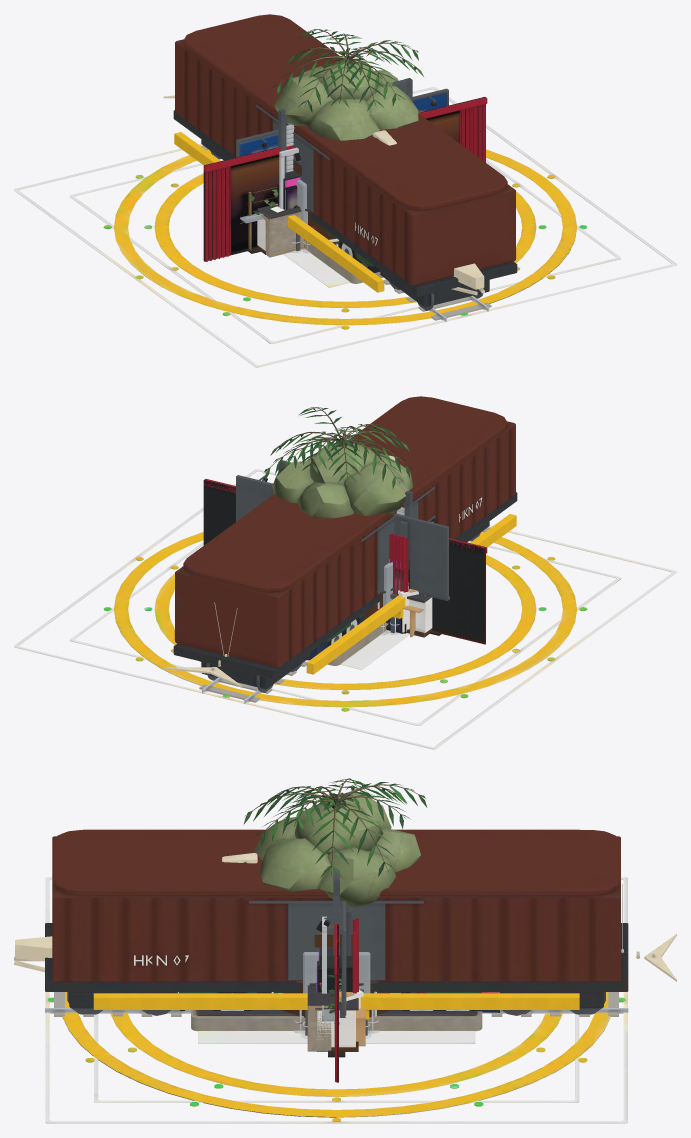
Rendered from props.glb.
3 views of the same model, one above another, from view 1: azimuth 30°, elevation 25°; view 2: azimuth 150°, elevation 25°; view 3: azimuth 270°, elevation 25° (orthographic). The views are drawn at different scales.
Visible parts, largest first — view 1: kovnica_rail_wagon_body, helipad_body, centar_screen_body, vila_olive_body, helipad_mark_body, palm_body, kovnica_gantry_body, centar_billboard_body, ticket_desk_body, kovnica_truck_gate_body, dino_body, kovnica_rails_body (+2 smaller); view 2: kovnica_rail_wagon_body, helipad_body, vila_olive_body, helipad_mark_body, centar_screen_body, centar_billboard_body, palm_body, kovnica_gantry_body, stage_set_body, teller_counter_body, kovnica_rails_body, whale_skeleton_body (+1 smaller); view 3: kovnica_rail_wagon_body, helipad_body, vila_olive_body, kovnica_gantry_body, helipad_mark_body, dino_body, palm_body, ticket_desk_body, whale_skeleton_body, kovnica_rails_body, teller_counter_body, centar_billboard_body (+5 smaller).
Boxes of the visible parts, x1=… form: kovnica_rail_wagon_body: x1=173, y1=14, x2=517, y2=310; helipad_body: x1=14, y1=87, x2=676, y2=367; centar_screen_body: x1=203, y1=97, x2=487, y2=261; vila_olive_body: x1=274, y1=61, x2=418, y2=140; helipad_mark_body: x1=69, y1=159, x2=621, y2=343; palm_body: x1=272, y1=29, x2=423, y2=112; kovnica_gantry_body: x1=174, y1=132, x2=516, y2=292; centar_billboard_body: x1=236, y1=88, x2=448, y2=223; ticket_desk_body: x1=257, y1=205, x2=304, y2=257; kovnica_truck_gate_body: x1=278, y1=78, x2=412, y2=173; dino_body: x1=304, y1=130, x2=396, y2=283; kovnica_rails_body: x1=201, y1=145, x2=491, y2=321; kovnica_rail_wagon_body: x1=173, y1=396, x2=517, y2=692; helipad_body: x1=14, y1=469, x2=676, y2=749; vila_olive_body: x1=272, y1=443, x2=412, y2=518; helipad_mark_body: x1=69, y1=541, x2=621, y2=725; centar_screen_body: x1=203, y1=479, x2=487, y2=644; centar_billboard_body: x1=236, y1=475, x2=449, y2=600; palm_body: x1=263, y1=407, x2=412, y2=488; kovnica_gantry_body: x1=174, y1=514, x2=516, y2=674; stage_set_body: x1=389, y1=533, x2=408, y2=633; teller_counter_body: x1=392, y1=593, x2=432, y2=637; kovnica_rails_body: x1=199, y1=527, x2=489, y2=703; whale_skeleton_body: x1=163, y1=602, x2=242, y2=688; kovnica_rail_wagon_body: x1=45, y1=829, x2=628, y2=1015; helipad_body: x1=45, y1=877, x2=627, y2=1123; vila_olive_body: x1=254, y1=791, x2=420, y2=907; kovnica_gantry_body: x1=93, y1=993, x2=579, y2=1019; helipad_mark_body: x1=94, y1=1012, x2=579, y2=1102; dino_body: x1=191, y1=853, x2=482, y2=1031; palm_body: x1=243, y1=778, x2=427, y2=877; ticket_desk_body: x1=307, y1=985, x2=365, y2=1051; whale_skeleton_body: x1=14, y1=884, x2=676, y2=981; kovnica_rails_body: x1=45, y1=992, x2=628, y2=1016; teller_counter_body: x1=315, y1=988, x2=358, y2=1051; centar_billboard_body: x1=322, y1=901, x2=351, y2=1021.
Size of the model in its own units: 11.98 by 5 by 13.64.
Materials: 9 (4 with a texture image).
